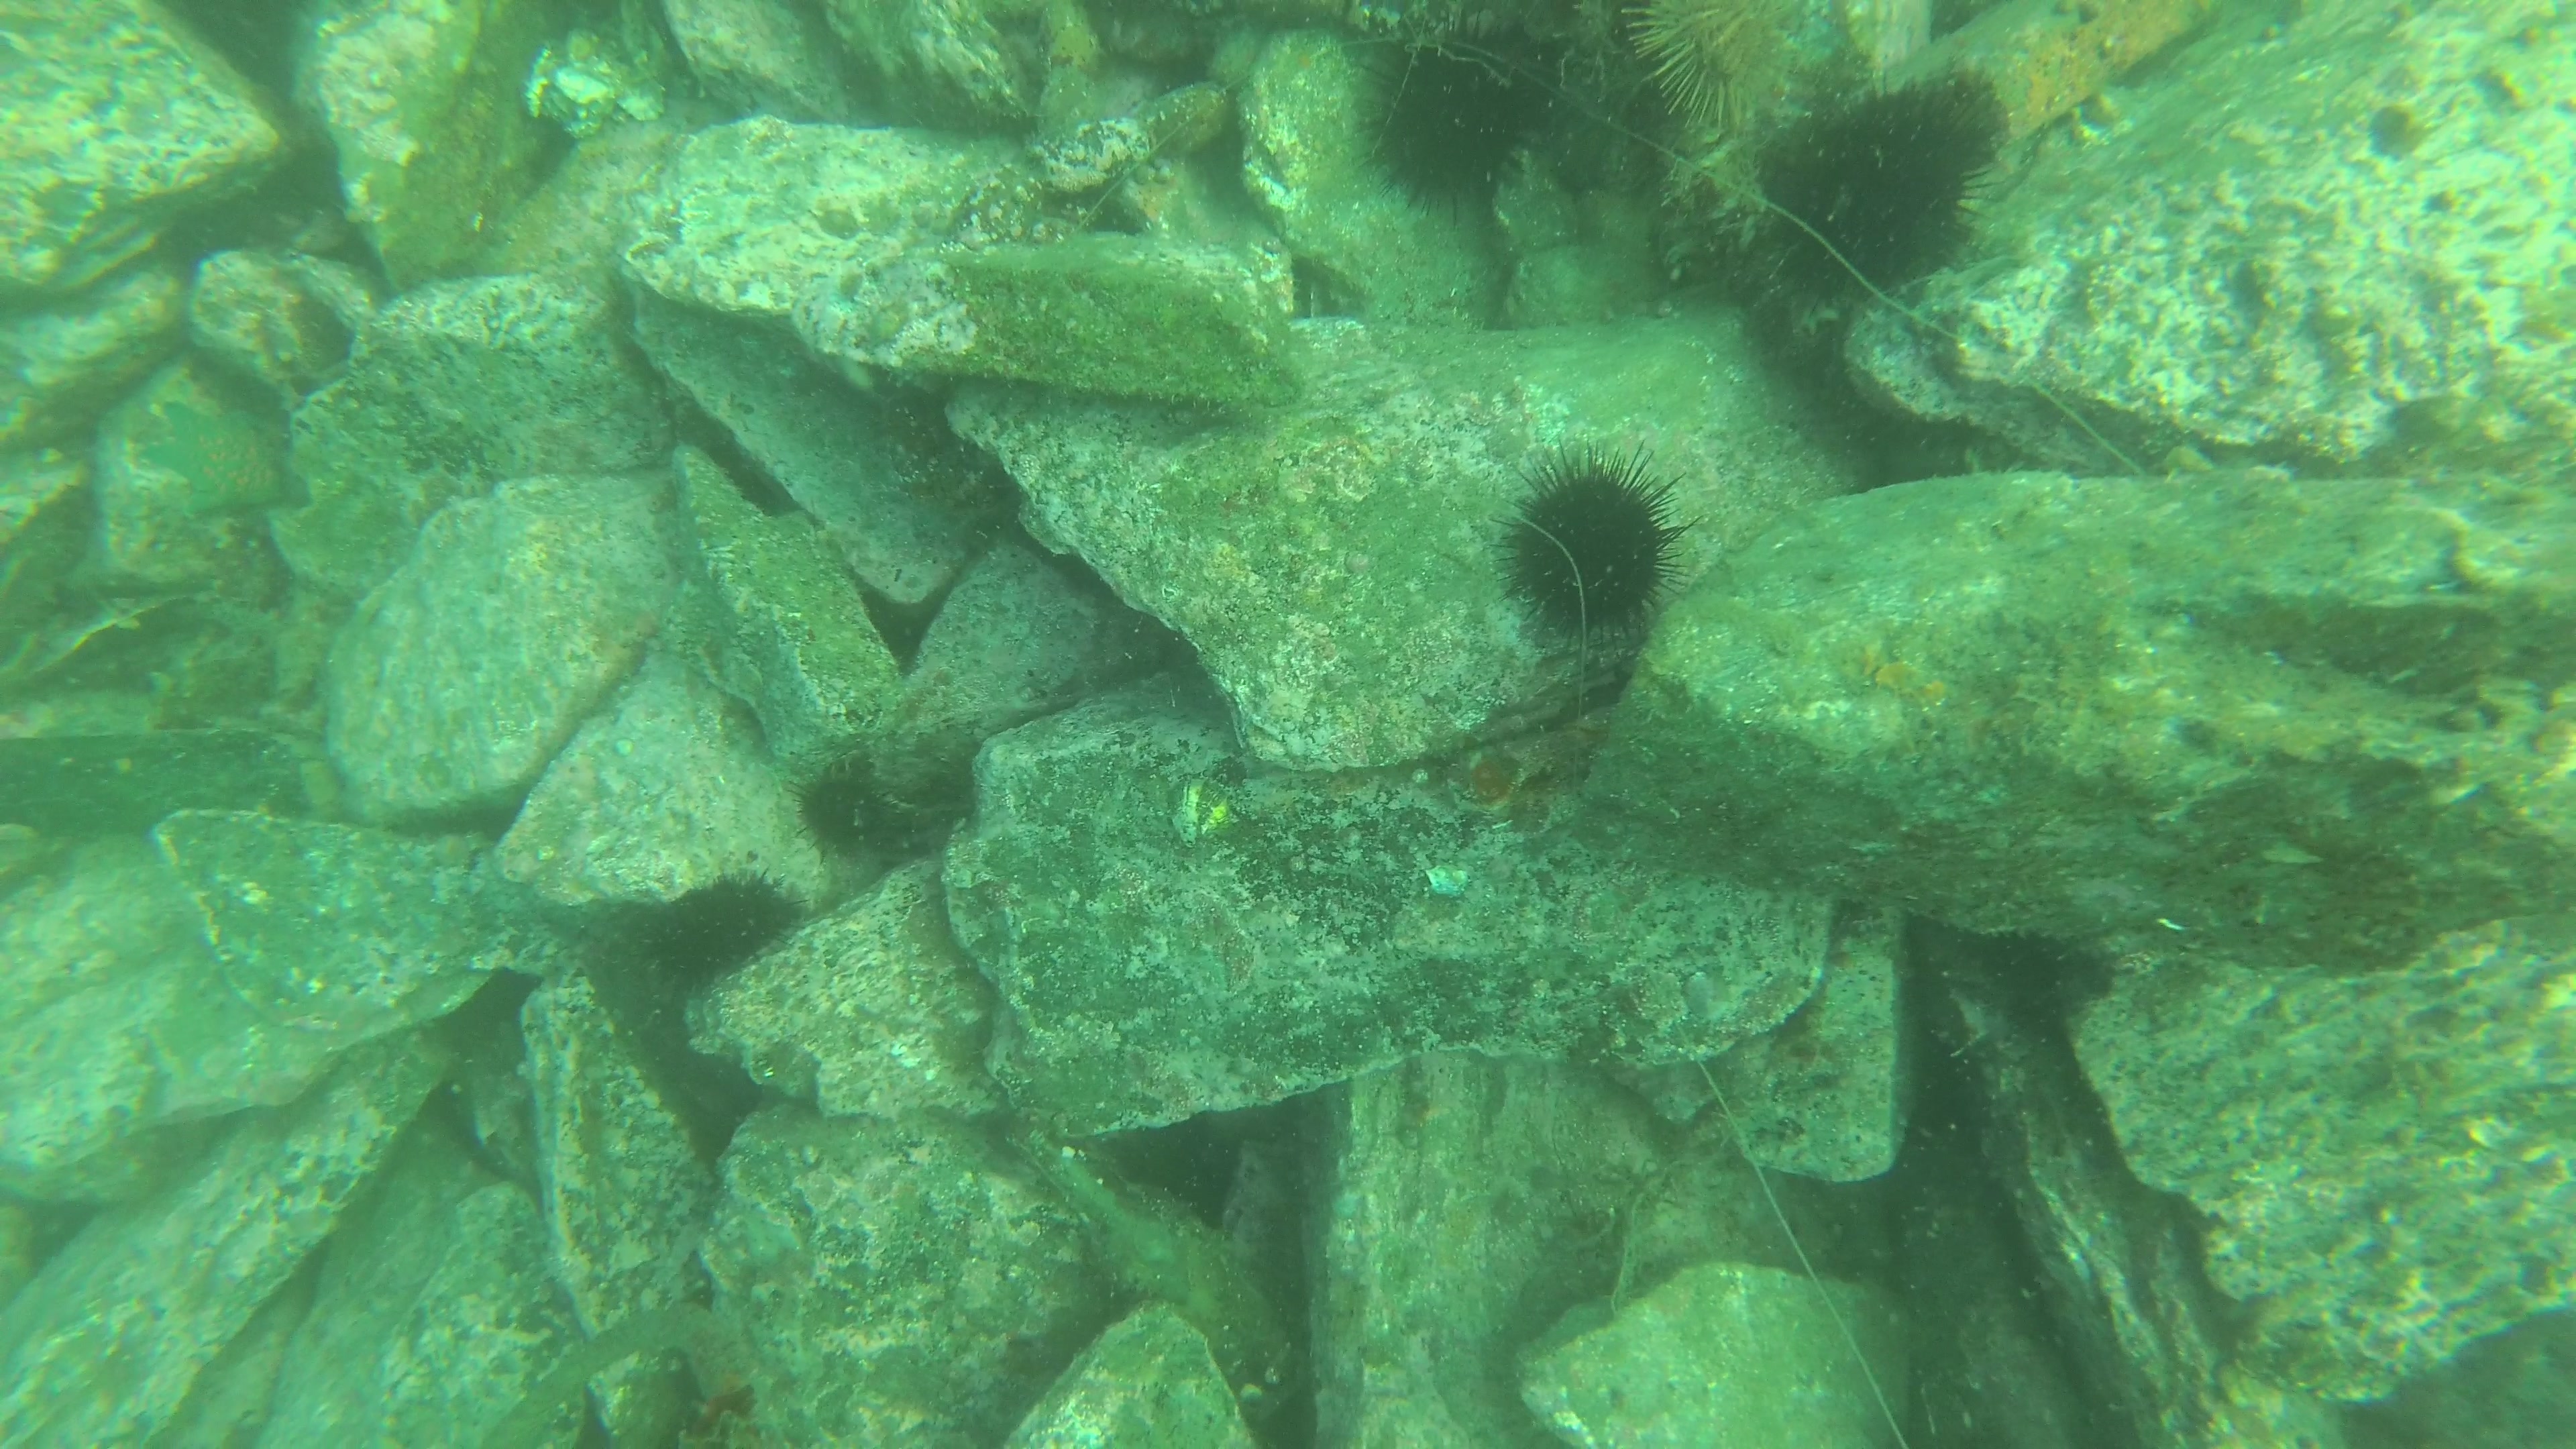echinus: (1371, 32, 1552, 211), (1502, 464, 1675, 639), (1801, 111, 1976, 272), (1626, 0, 1813, 129), (655, 872, 810, 982)
